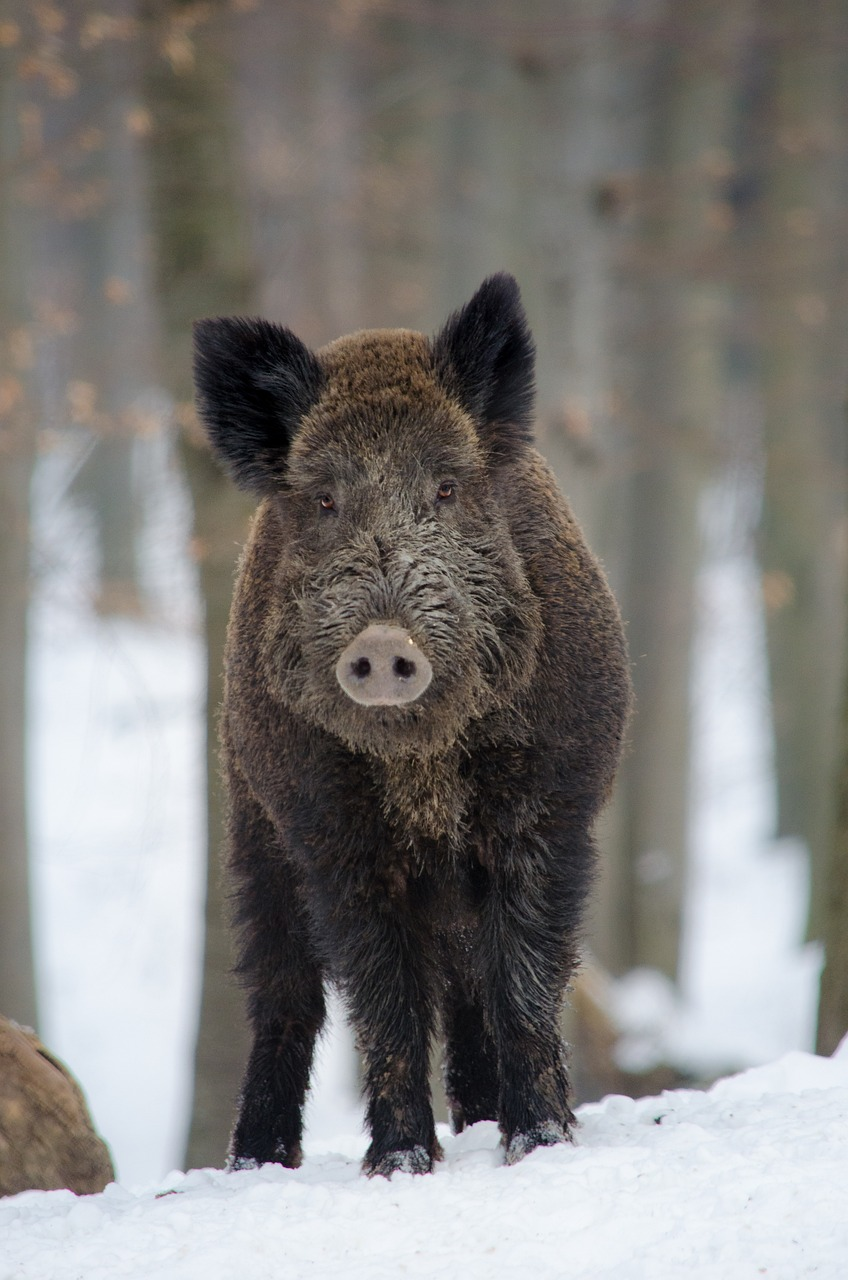pig: (144, 285, 616, 1172)
